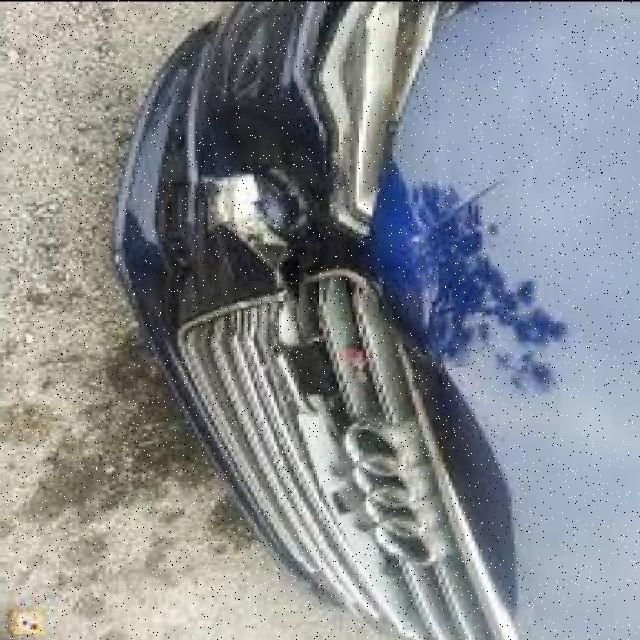damage: (195, 154, 435, 421)
